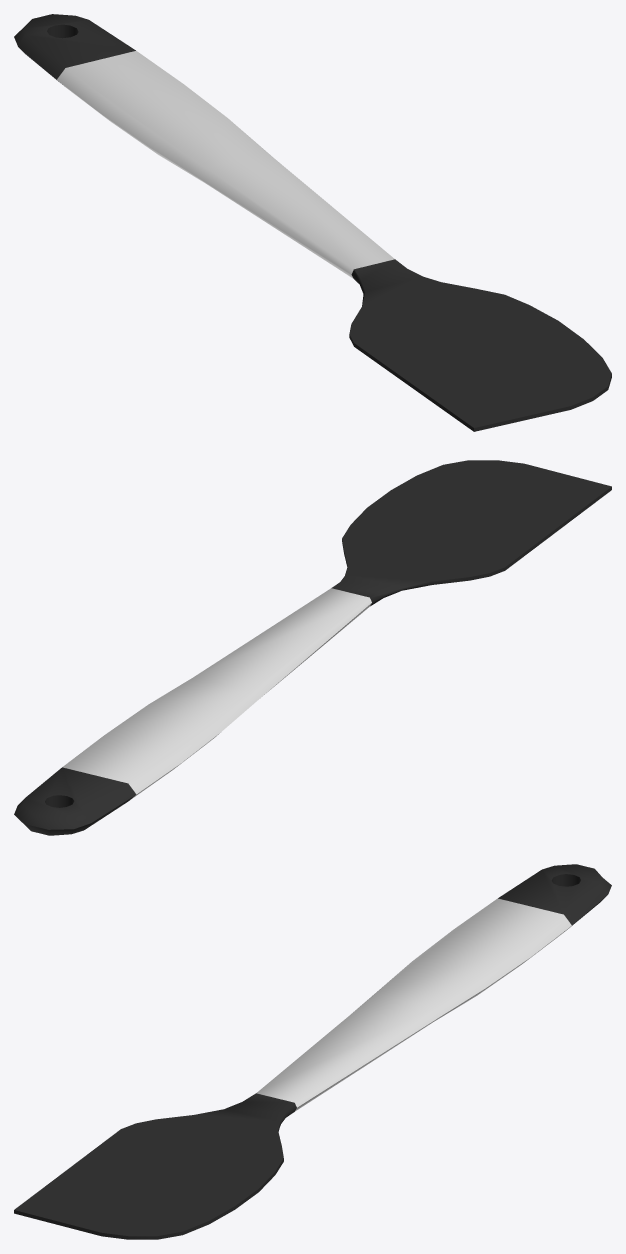
Rendered from SiliconeSpatula_01.fbx.
3 views of the same model, one above another, from view 1: azimuth 30°, elevation 25°; view 2: azimuth 150°, elevation 25°; view 3: azimuth 330°, elevation 25° (orthographic). The views are drawn at different scales.
Parts seen in each view (by area): view 1: SiliconeSpatula_01; view 2: SiliconeSpatula_01; view 3: SiliconeSpatula_01.
Part boxes in pixels (x1=…): SiliconeSpatula_01: x1=14, y1=14, x2=611, y2=431; SiliconeSpatula_01: x1=14, y1=460, x2=611, y2=835; SiliconeSpatula_01: x1=14, y1=864, x2=611, y2=1239.
Bounding box in the file's own units: 0.0491 × 0.00515 × 0.2544.
